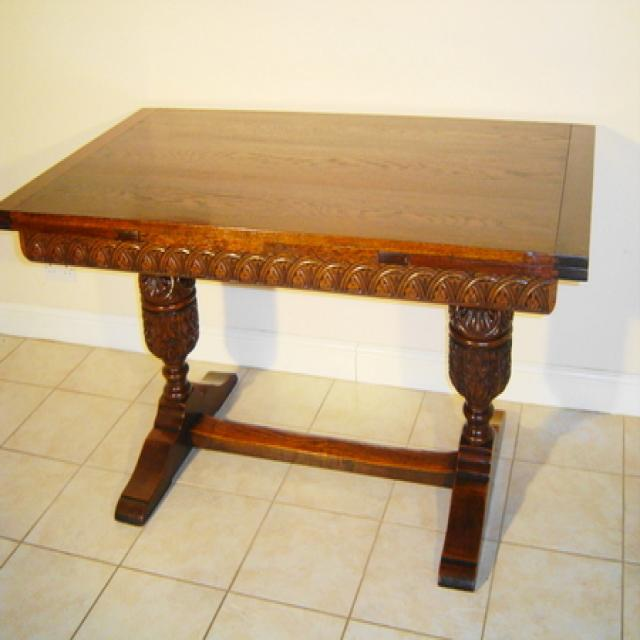table: (0, 102, 594, 590)
